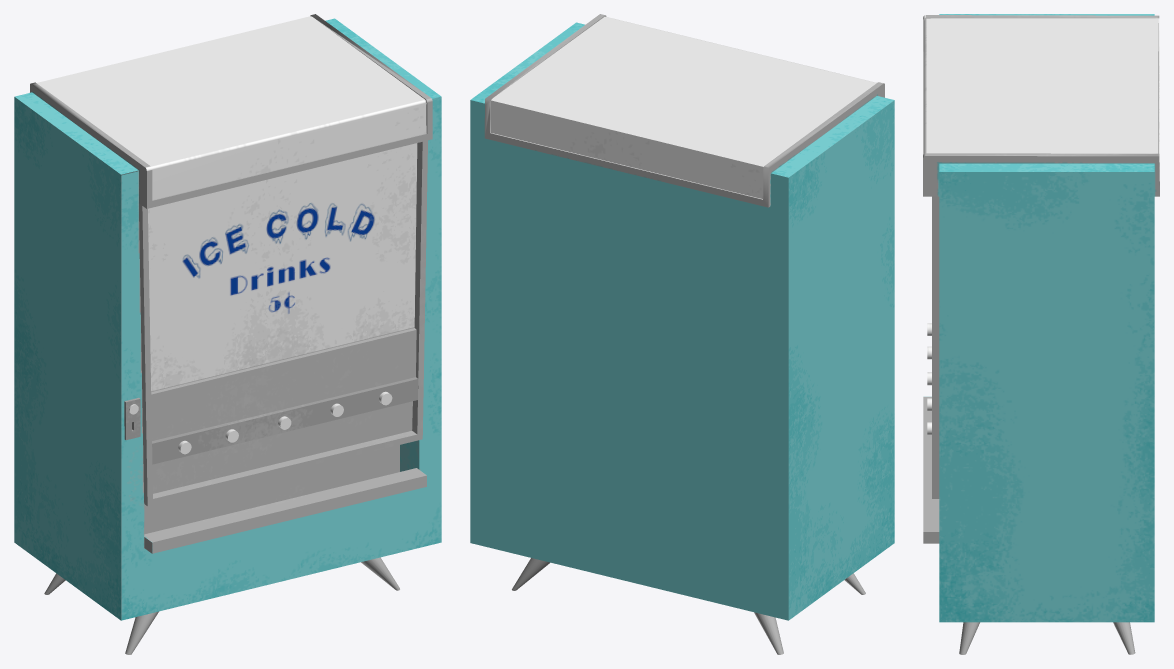
The model's file is Vednign_Machine4.fbx.
3 renders of one model, left to right at view 1: azimuth 30°, elevation 25°; view 2: azimuth 150°, elevation 25°; view 3: azimuth 270°, elevation 25°, orthographic.
Visible parts, largest first — view 1: pasted__pasted__pasted__pCone1; view 2: pasted__pasted__pasted__pCone1; view 3: pasted__pasted__pasted__pCone1.
Part boxes in pixels (x1,y1,x2,y2): pasted__pasted__pasted__pCone1: (14, 14, 441, 654); pasted__pasted__pasted__pCone1: (470, 14, 894, 654); pasted__pasted__pasted__pCone1: (923, 14, 1159, 654).
Size of the model in its own units: 4.1 by 6.12 by 2.6.
Materials: 1 (1 with a texture image).
